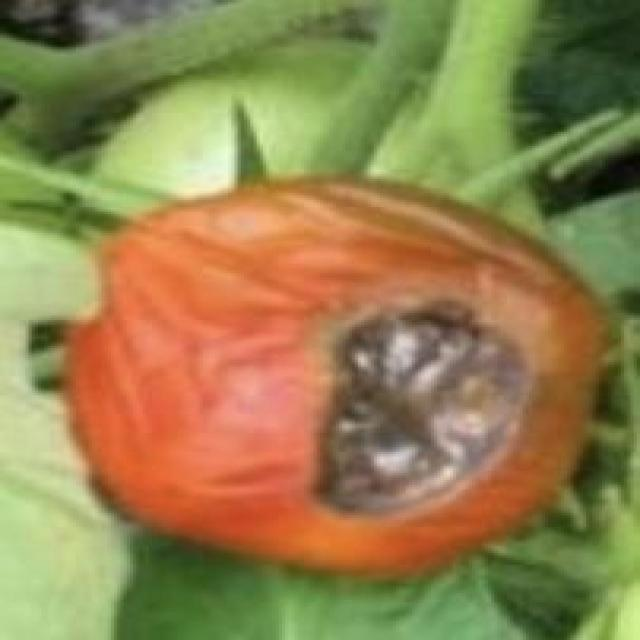Blossom End Rot Fruit: (198, 195, 355, 355)
